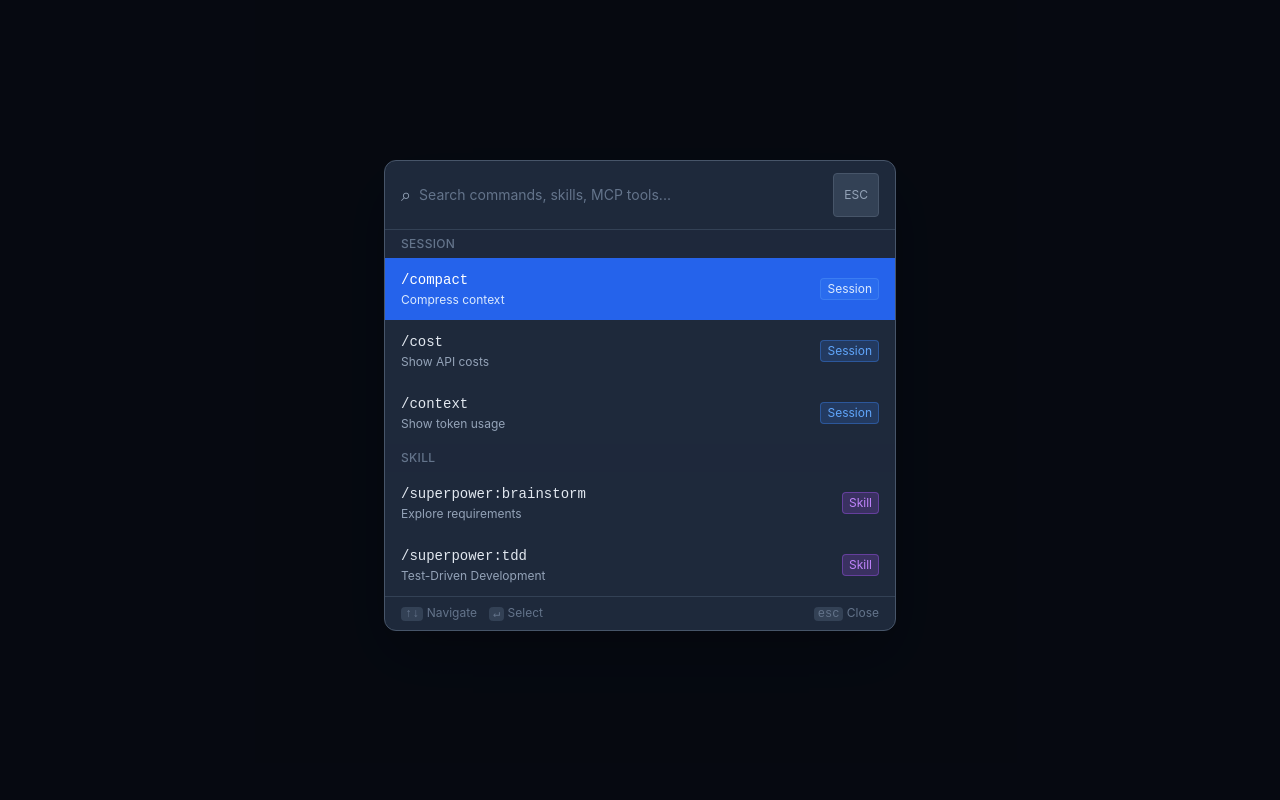
Test: CommandPalette › should filter items based on search query
The width and height of the screenshot is (1280, 800).
Step 1. Type "tdd" into the field with placeholder "Search commands, skills, MCP tools..." → (622, 195), box top-left (419, 173), bottom-right (825, 217)
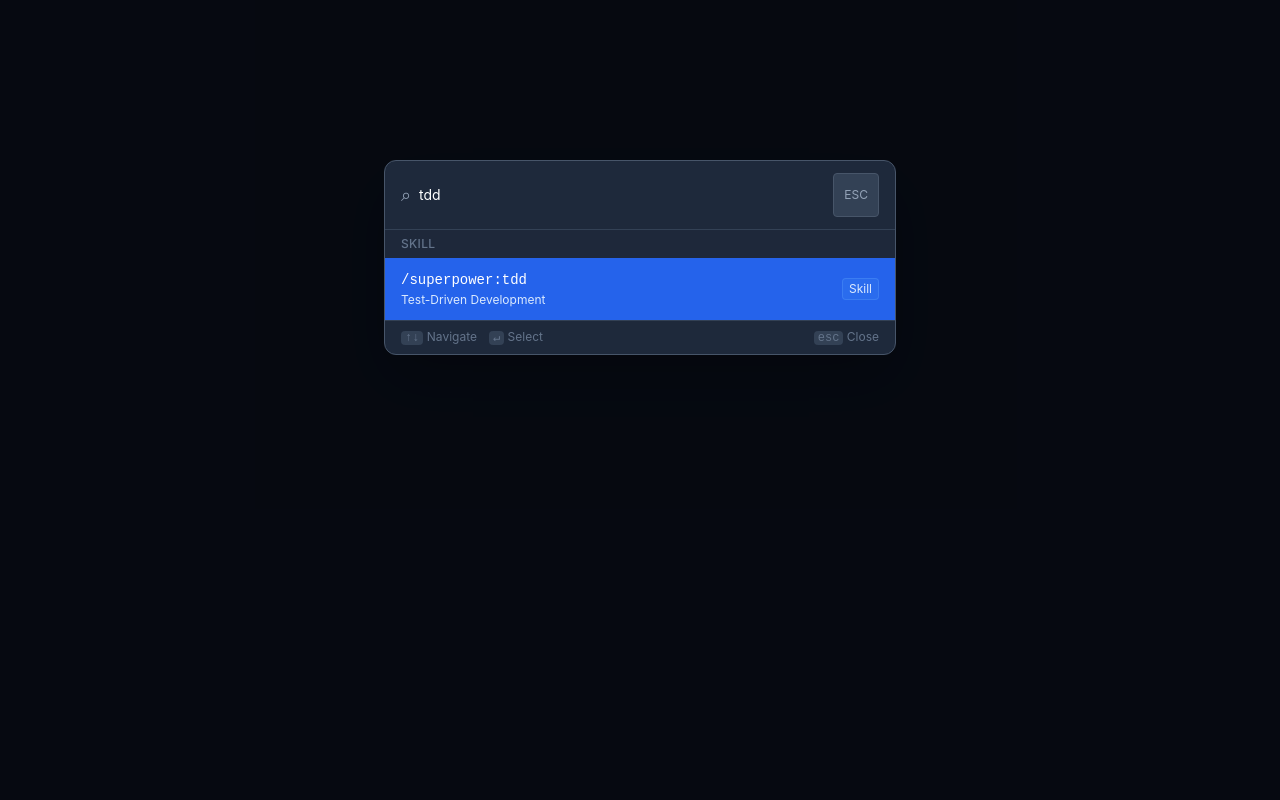
Expected: the text "/superpower:tdd" is shown, top-left (401, 272), bottom-right (527, 288)
Result: the button "/compact" is gone
Result: the button "/superpower:brainstorm" is gone
